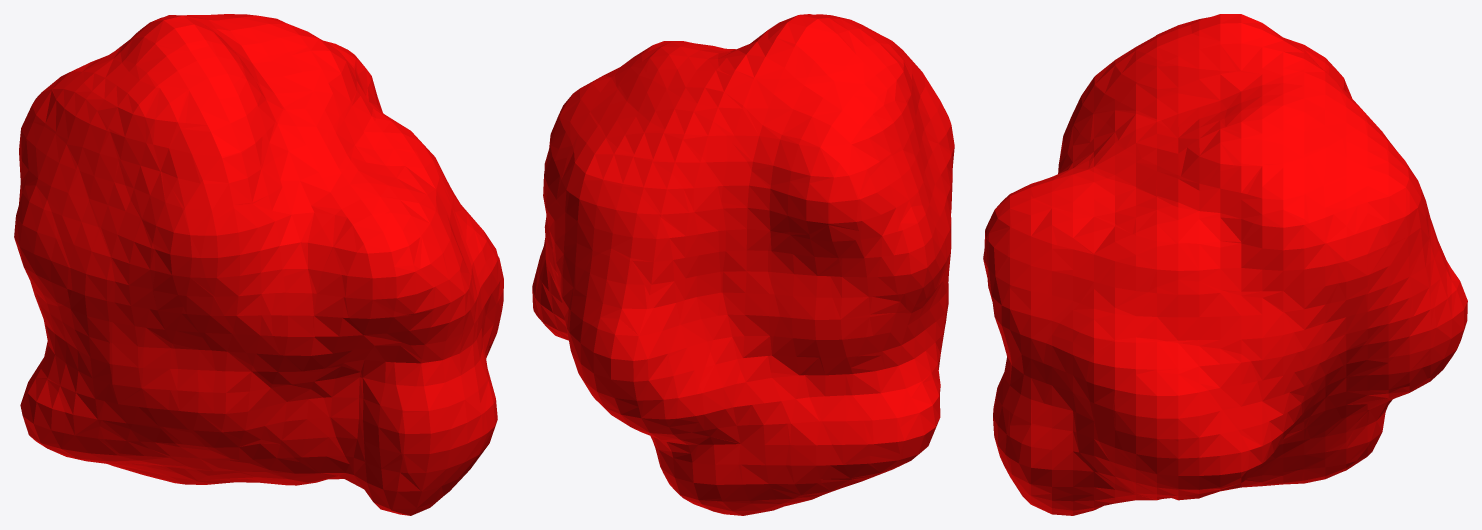
Rendered from btuE_coarse.dae.
3 renders of one model, left to right at view 1: azimuth 30°, elevation 25°; view 2: azimuth 150°, elevation 25°; view 3: azimuth 270°, elevation 25°, orthographic. The views are drawn at different scales.
Parts seen in each view (by area): view 1: btuE; view 2: btuE; view 3: btuE.
Part boxes in pixels (left/top/right/bottom): btuE: left=14, top=14, right=503, bottom=515; btuE: left=532, top=14, right=954, bottom=515; btuE: left=983, top=14, right=1467, bottom=515.
Size of the model in its own units: 43.02 by 45.86 by 45.06.
